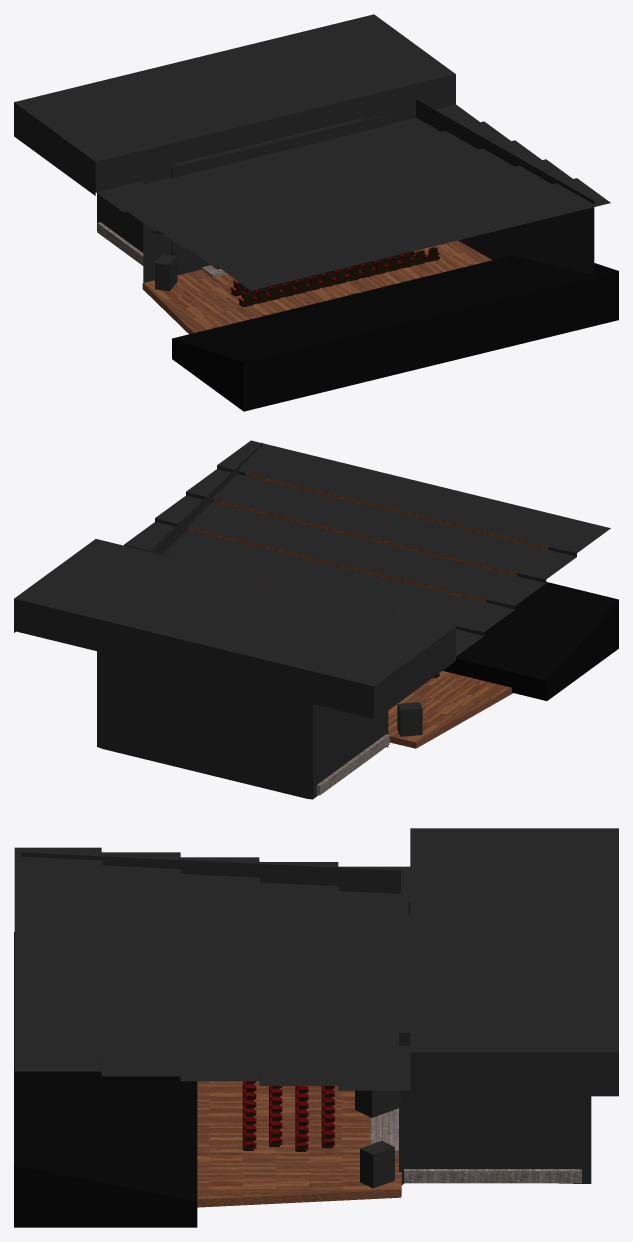
Rendered from Stage-O.glb.
3 views of the same model, one above another, from view 1: azimuth 30°, elevation 25°; view 2: azimuth 150°, elevation 25°; view 3: azimuth 270°, elevation 25° (orthographic). The views are drawn at different scales.
Visible parts, largest first — view 1: Roof, BackWall, Floor, Wall.001, Stage-wall, Cube.003, Wall, Stage-floor, Cube.009, Cube.002; view 2: Roof, Stage-wall, BackWall, Floor, Wall.001, Stage-floor, Cube.009; view 3: Roof, BackWall, Floor, Stage-wall, Wall, Stage-floor, Cube.017, Cube.018, Cube.003, Cube.001, Cube, Cube.002.
Part boxes in pixels (bbox=[...]): Roof: bbox=[14, 14, 610, 290]; BackWall: bbox=[172, 255, 618, 411]; Floor: bbox=[142, 240, 492, 334]; Wall.001: bbox=[362, 99, 594, 275]; Stage-wall: bbox=[97, 114, 388, 275]; Cube.003: bbox=[238, 247, 439, 306]; Wall: bbox=[143, 158, 175, 282]; Stage-floor: bbox=[97, 222, 227, 277]; Cube.009: bbox=[155, 254, 177, 291]; Cube.002: bbox=[240, 251, 415, 298]; Roof: bbox=[14, 440, 610, 720]; Stage-wall: bbox=[97, 651, 388, 799]; BackWall: bbox=[442, 582, 618, 700]; Floor: bbox=[388, 671, 512, 748]; Wall.001: bbox=[150, 442, 262, 554]; Stage-floor: bbox=[316, 734, 389, 795]; Cube.009: bbox=[397, 702, 422, 736]; Roof: bbox=[14, 828, 618, 1096]; BackWall: bbox=[14, 932, 197, 1227]; Floor: bbox=[197, 1081, 401, 1207]; Stage-wall: bbox=[399, 898, 591, 1185]; Wall: bbox=[21, 852, 400, 893]; Stage-floor: bbox=[370, 1108, 581, 1183]; Cube.017: bbox=[360, 1140, 394, 1188]; Cube.018: bbox=[355, 1090, 400, 1117]; Cube.003: bbox=[242, 1081, 256, 1150]; Cube.001: bbox=[295, 1086, 308, 1151]; Cube: bbox=[321, 1086, 334, 1148]; Cube.002: bbox=[269, 1086, 282, 1146].
Bounding box in the file's own units: 21.01 × 7.58 × 23.02.
9 materials, 2 textured.
